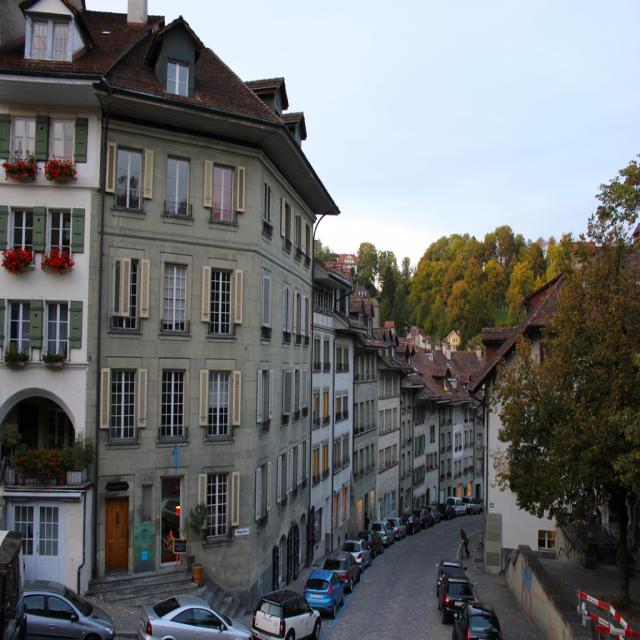car: (435, 550, 467, 597)
